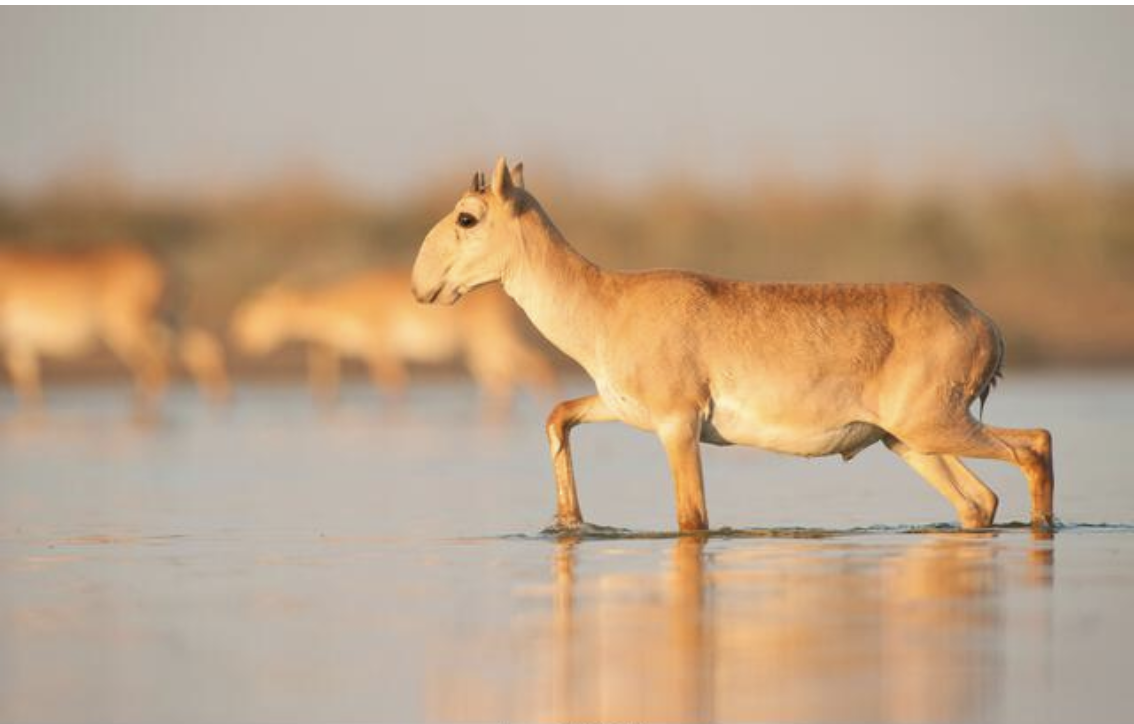saiga: (388, 146, 1088, 566)
